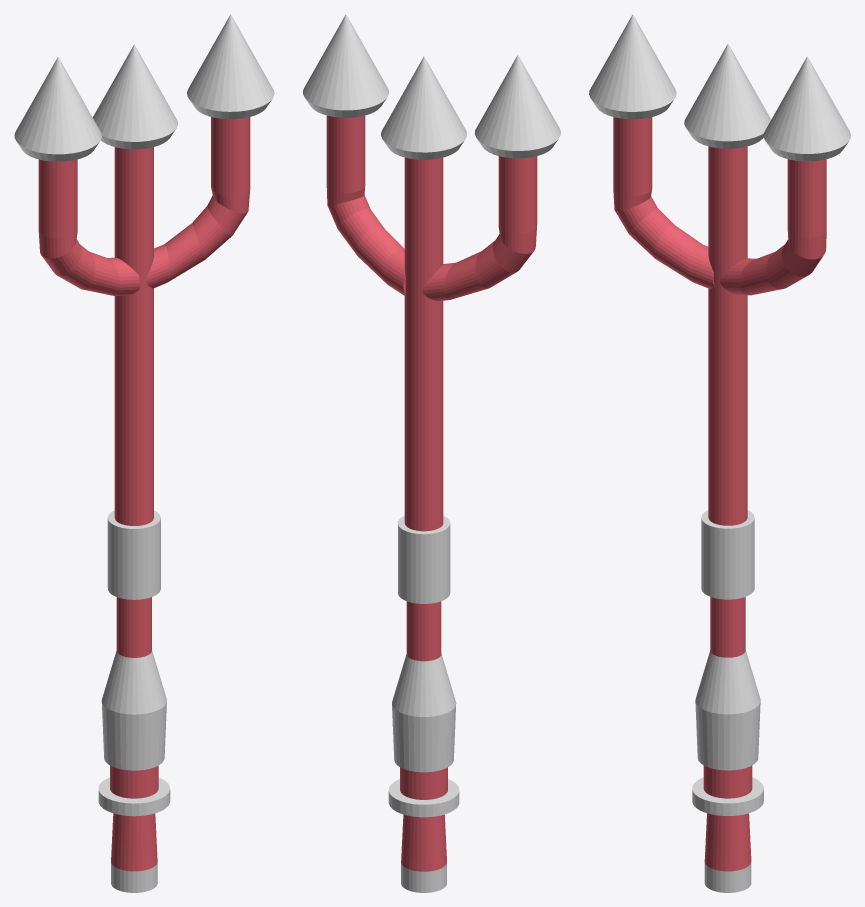
The model's file is Devil Weapon.fbx.
The picture shows the model from 3 angles, left to right: view 1: azimuth 30°, elevation 25°; view 2: azimuth 150°, elevation 25°; view 3: azimuth 330°, elevation 25°; orthographic projection.
Parts seen in each view (by area): view 1: Cone; view 2: Cone; view 3: Cone.
Boxes of the visible parts, x1=… form: Cone: x1=14, y1=14, x2=274, y2=892; Cone: x1=303, y1=14, x2=560, y2=892; Cone: x1=589, y1=14, x2=850, y2=892.
Size of the model in its own units: 657 by 2152 by 243.
